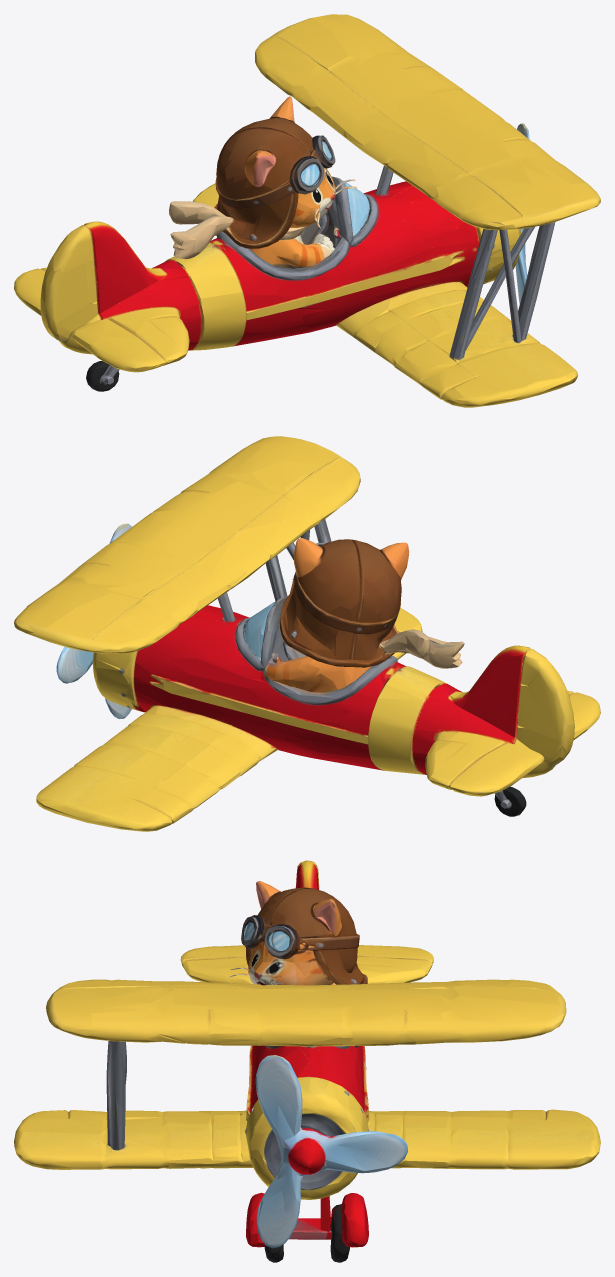
The picture shows the model from 3 angles, top to bottom: view 1: azimuth 30°, elevation 25°; view 2: azimuth 150°, elevation 25°; view 3: azimuth 270°, elevation 25°; orthographic projection.
Parts seen in each view (by area): view 1: output_unwrapped; view 2: output_unwrapped; view 3: output_unwrapped.
Part boxes in pixels (left/top/right/bottom): output_unwrapped: left=14, top=14, right=600, bottom=407; output_unwrapped: left=14, top=436, right=600, bottom=831; output_unwrapped: left=14, top=860, right=600, bottom=1262.
Size of the model in its own units: 182 by 106 by 190.
Materials: 1 (1 with a texture image).
